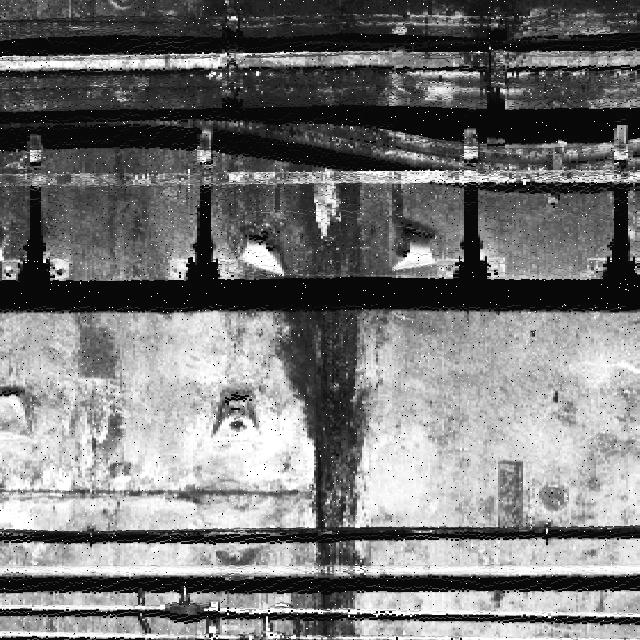leakage: (262, 176, 394, 640)
